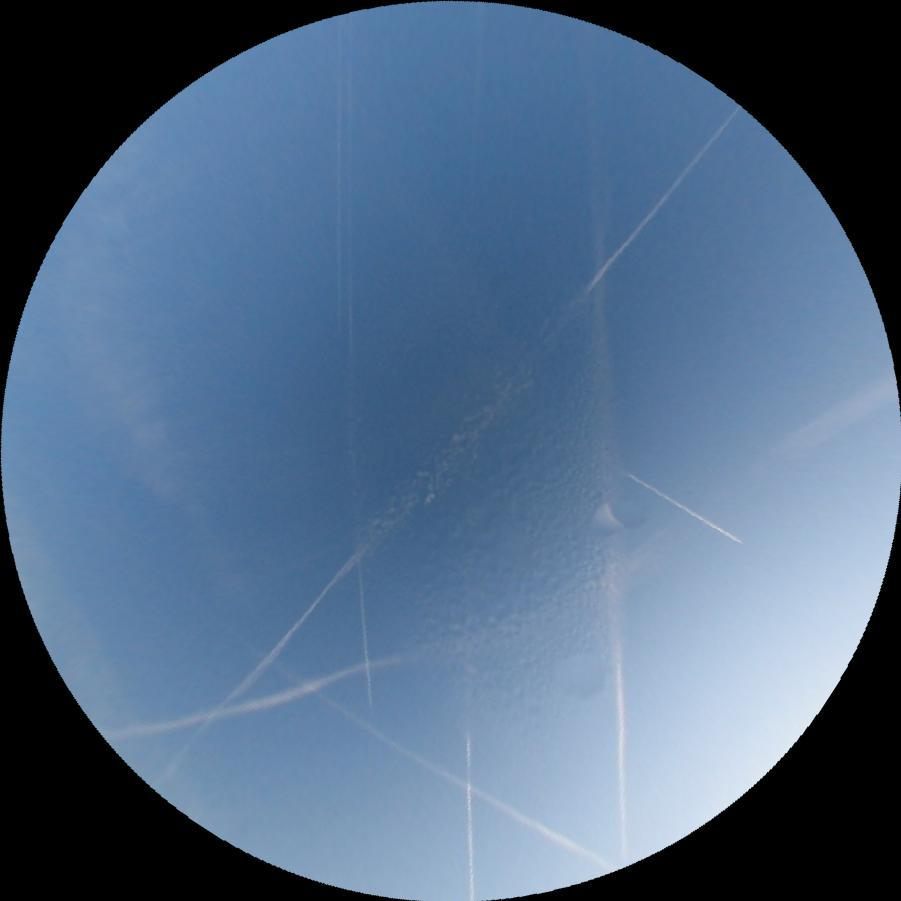contrail veryold: (152, 91, 753, 808), (223, 634, 620, 880), (589, 156, 635, 865), (464, 735, 474, 899)
contrail young: (340, 14, 372, 706), (623, 470, 745, 546), (335, 16, 340, 334)
